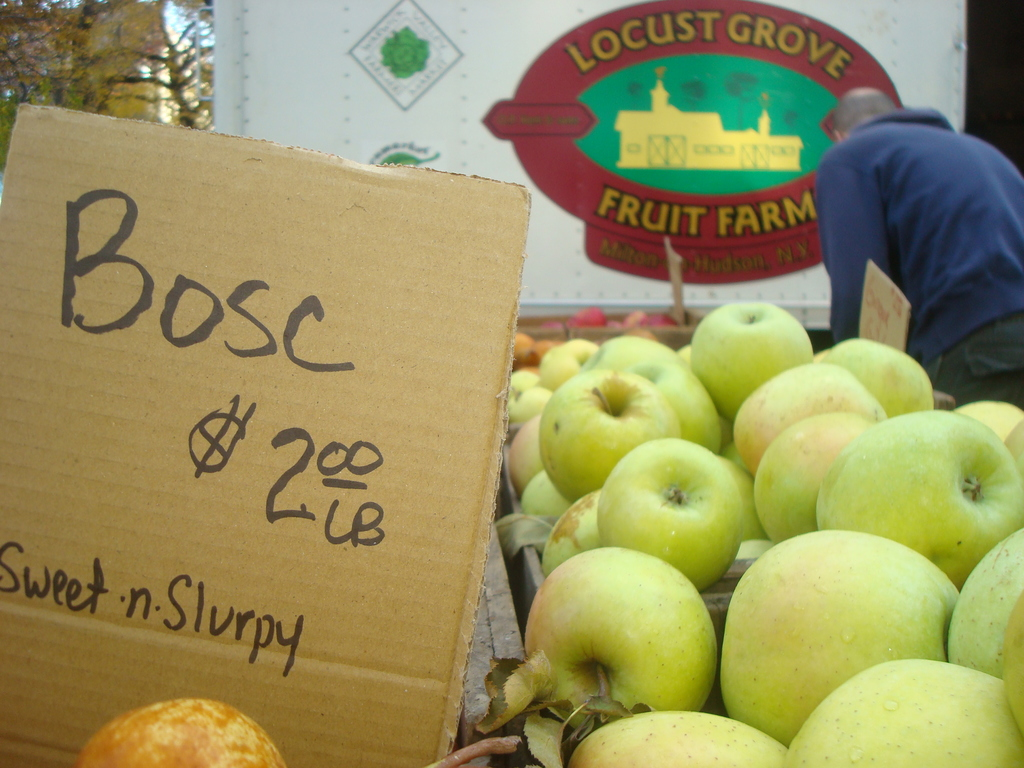Apple: (508, 298, 1023, 767), (522, 544, 718, 733), (583, 437, 762, 599)
